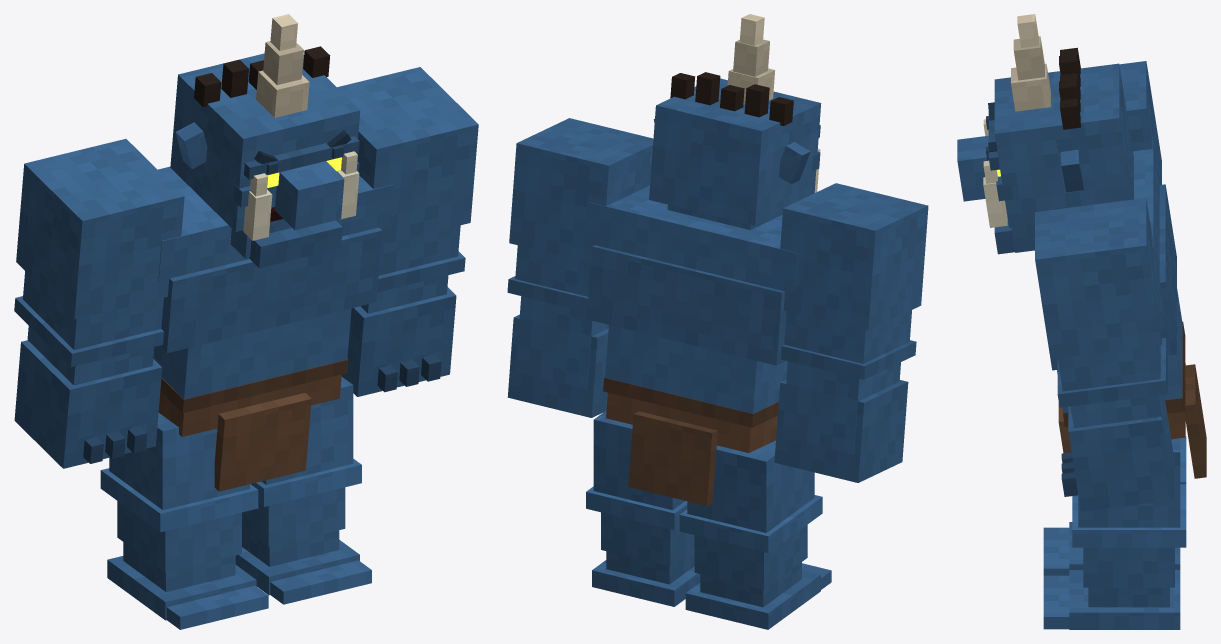
The model's file is ogre_base.glb.
3 renders of one model, left to right at view 1: azimuth 30°, elevation 25°; view 2: azimuth 150°, elevation 25°; view 3: azimuth 270°, elevation 25°, orthographic. The views are drawn at different scales.
Parts seen in each view (by area): view 1: ArmR, Torso, Head, ArmL, LegR, LegL; view 2: Torso, ArmR, ArmL, Head, LegR, LegL; view 3: ArmL, Head, LegL, Torso, ArmR, LegR.
Part boxes in pixels (box(x1,y1,x2,y2)): ArmR: box(14, 139, 184, 468); Torso: box(153, 166, 393, 491); Head: box(170, 14, 360, 267); ArmL: box(337, 67, 478, 396); LegR: box(100, 413, 268, 629); LegL: box(235, 377, 371, 604); Torso: box(585, 185, 797, 505); ArmR: box(774, 183, 928, 482); ArmL: box(507, 118, 653, 417); Head: box(649, 14, 821, 229); LegR: box(679, 440, 831, 629); LegL: box(586, 410, 700, 606); ArmL: box(1035, 198, 1173, 511); Head: box(957, 14, 1133, 254); LegL: box(1043, 438, 1186, 629); Torso: box(1042, 140, 1206, 478); ArmR: box(1119, 61, 1161, 184); LegR: box(1043, 436, 1186, 575).
Size of the model in its own units: 1.46 by 2.09 by 0.8306.
Materials: 25 (25 with a texture image).
